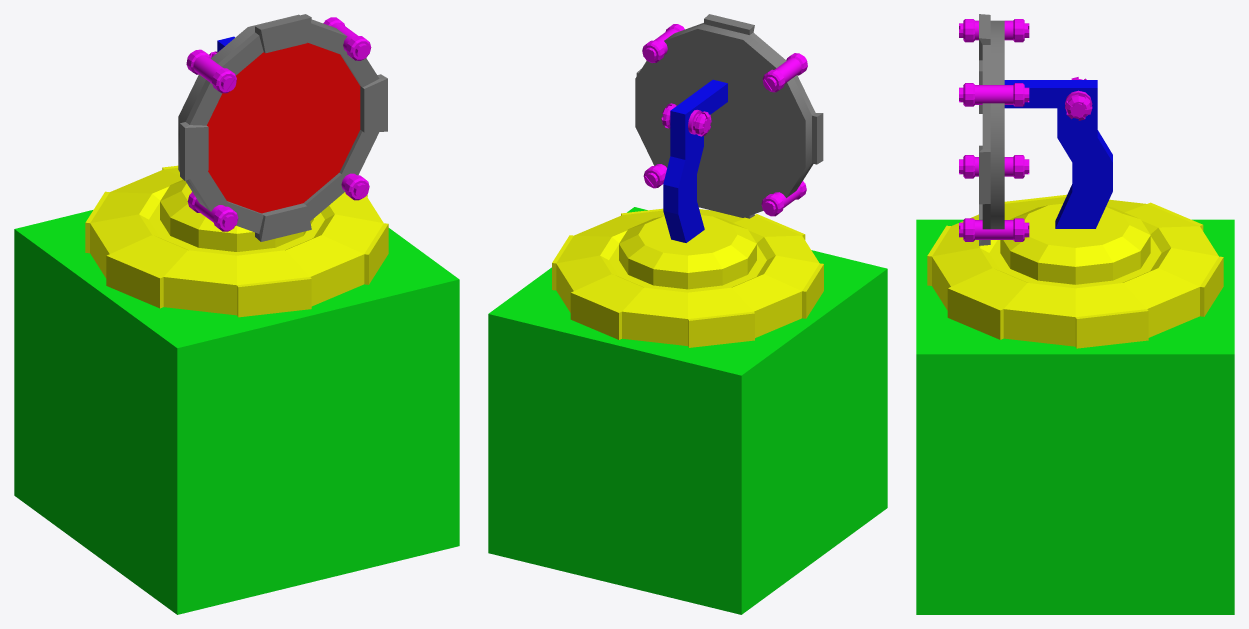
Rendered from LasersMirrors_low.fbx.
The picture shows the model from 3 angles, left to right: view 1: azimuth 30°, elevation 25°; view 2: azimuth 150°, elevation 25°; view 3: azimuth 270°, elevation 25°; orthographic projection. The views are drawn at different scales.
Visible parts, largest first — view 1: Floor_low, Base_low, Mirror_low, MirrorBack_low, Bolt_low (×3); view 2: Floor_low, Base_low, MirrorBack_low, Neck_low, Bolt_low (×3), Crank_low; view 3: Floor_low, Base_low, Neck_low, MirrorBack_low, Bolt_low (×4), Crank_low.
Part boxes in pixels (box(x1,y1,x2,y2)): Floor_low: box(14, 210, 459, 614); Base_low: box(85, 165, 388, 317); Mirror_low: box(207, 42, 360, 213); MirrorBack_low: box(178, 14, 387, 241); Bolt_low (×3): box(186, 17, 371, 231); Floor_low: box(488, 207, 887, 614); Base_low: box(552, 208, 823, 347); MirrorBack_low: box(635, 14, 823, 218); Neck_low: box(663, 79, 727, 242); Bolt_low (×3): box(642, 24, 807, 216); Crank_low: box(661, 103, 711, 136); Floor_low: box(916, 219, 1234, 614); Base_low: box(927, 194, 1223, 348); Neck_low: box(1004, 80, 1112, 228); MirrorBack_low: box(979, 14, 1004, 245); Bolt_low (×4): box(959, 19, 1029, 241); Crank_low: box(1065, 77, 1092, 120).
Bounding box in the file's own units: 39.37 × 71.11 × 39.37.
